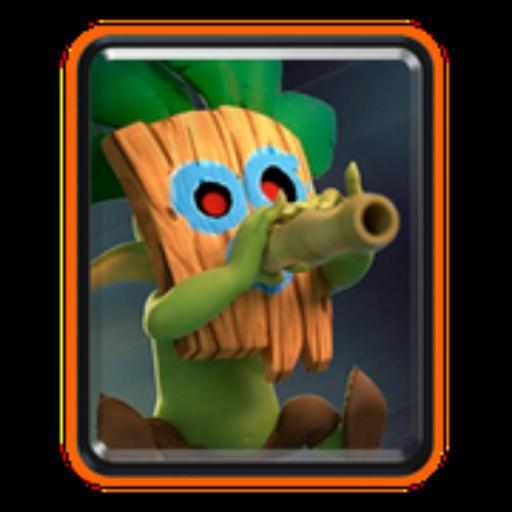dart-goblin: (86, 54, 398, 456)
